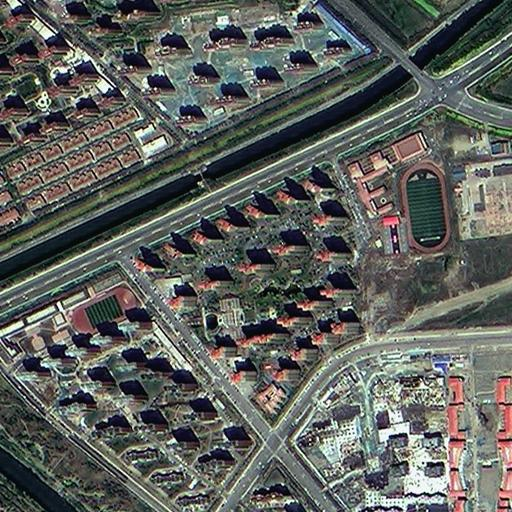school: (333, 128, 456, 260), (1, 259, 144, 369)
